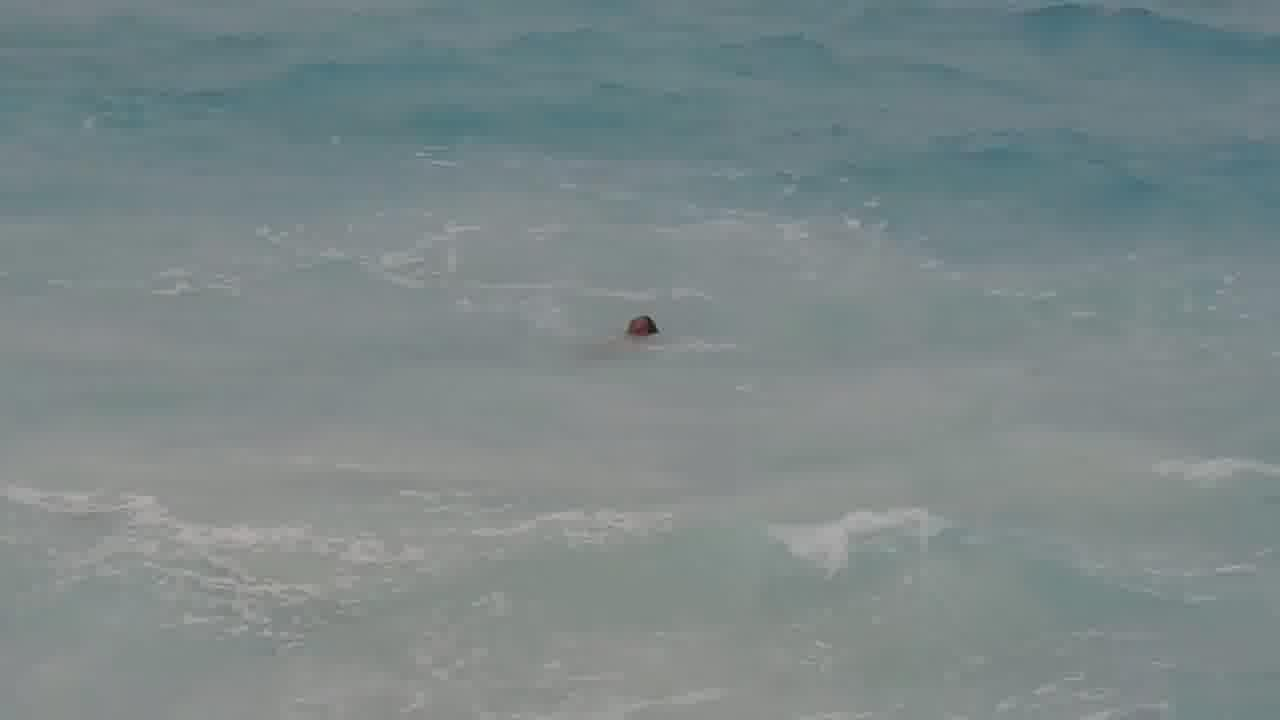swimmer: (613, 302, 657, 346)
